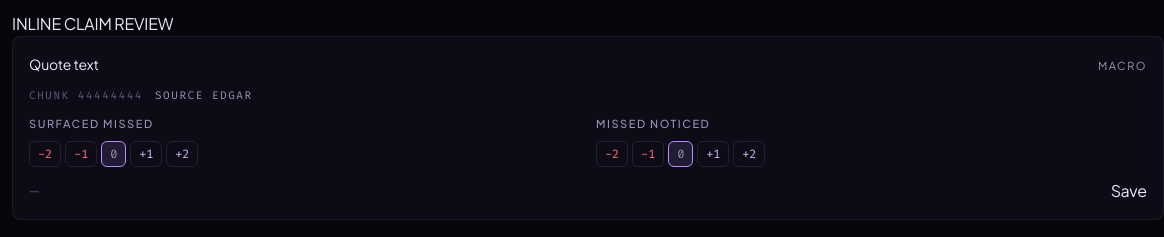
Test: InlineClaimReview › posts a human-review with the per-row axis values and chunk_id notes
Step 1. Click the button "+1" below "SURFACED MISSED" → (146, 154), box top-left (130, 141), bottom-right (162, 167)
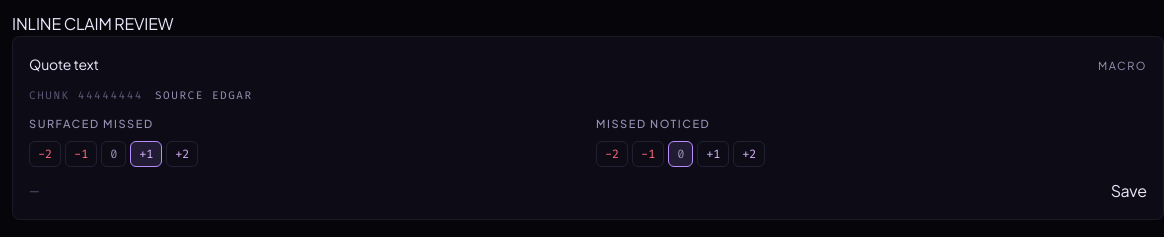
Step 2. Click the button "Save" → (1129, 191), box top-left (1111, 179), bottom-right (1147, 203)
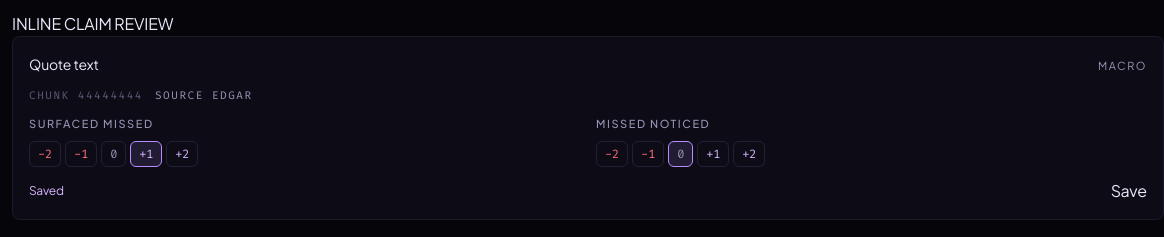
Expected: the text "Saved" is shown, top-left (29, 183), bottom-right (64, 199)
